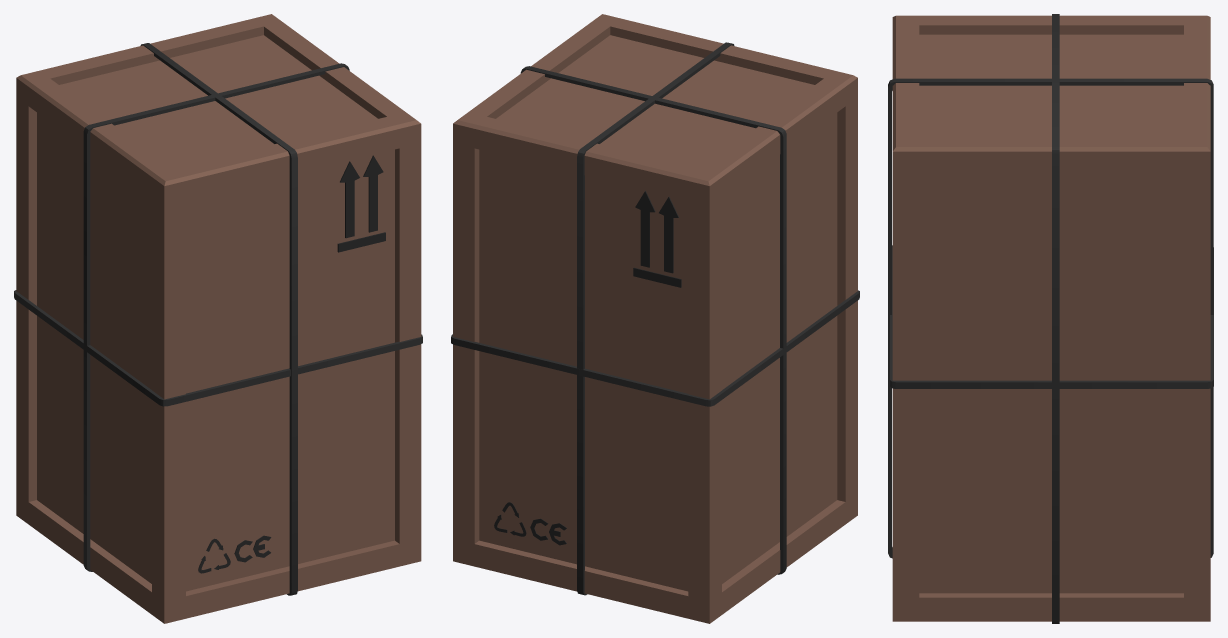
The model's file is props_11.glb.
3 renders of one model, left to right at view 1: azimuth 30°, elevation 25°; view 2: azimuth 150°, elevation 25°; view 3: azimuth 270°, elevation 25°, orthographic. The views are drawn at different scales.
Visible parts, largest first — view 1: props_11; view 2: props_11; view 3: props_11.
Boxes of the visible parts, bbox=[...] form: props_11: bbox=[14, 14, 422, 623]; props_11: bbox=[451, 14, 859, 623]; props_11: bbox=[888, 14, 1213, 623].
Bounding box in the file's own units: 2.05 × 3.31 × 2.05.
Materials: 1 (1 with a texture image).
